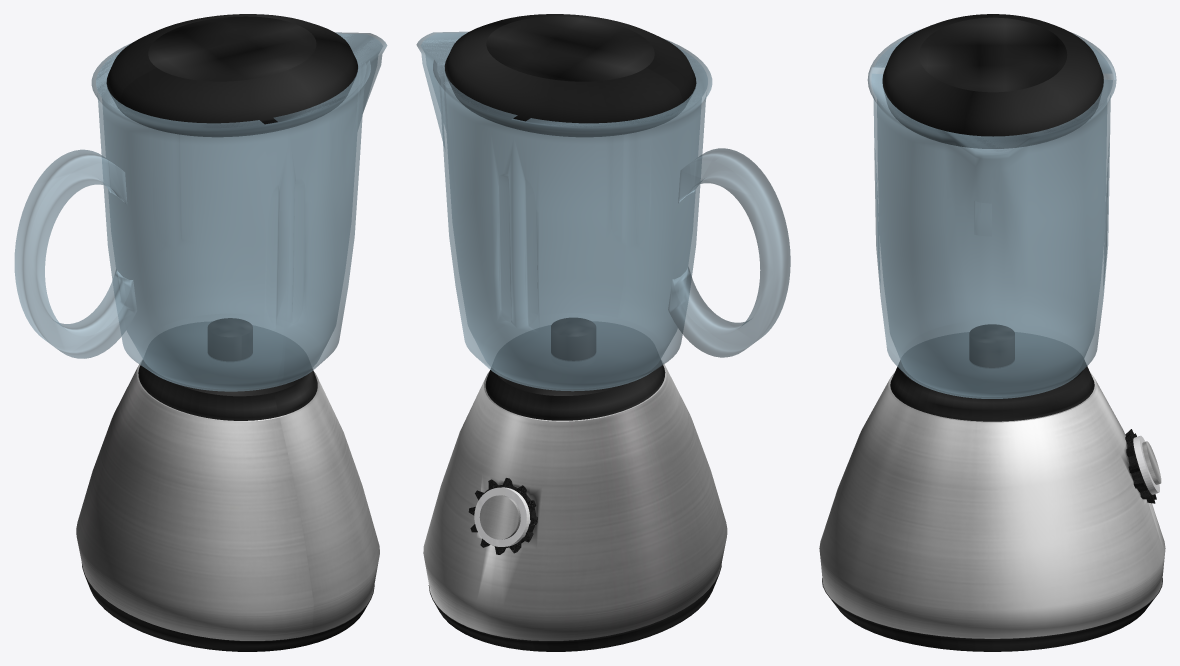
The model's file is blender.fbx.
The picture shows the model from 3 angles, left to right: view 1: azimuth 30°, elevation 25°; view 2: azimuth 150°, elevation 25°; view 3: azimuth 270°, elevation 25°; orthographic projection.
Visible parts, largest first — view 1: Cylinder.005, Cylinder, Cylinder.006, Cylinder.004, Cylinder.001, Cylinder.002, Cylinder.003; view 2: Cylinder.005, Cylinder, Cylinder.006, Cylinder.004, Cylinder.001, Cylinder.002, Cylinder.003, Cylinder.009, Cylinder.008, Cylinder.007; view 3: Cylinder, Cylinder.005, Cylinder.006, Cylinder.001, Cylinder.002, Cylinder.003, Cylinder.007, Cylinder.008.
Boxes of the visible parts, box(x1,y1,x2,y2) form: Cylinder.005: box(91, 32, 387, 391); Cylinder: box(76, 361, 379, 640); Cylinder.006: box(106, 14, 357, 136); Cylinder.004: box(14, 149, 136, 358); Cylinder.001: box(138, 360, 317, 420); Cylinder.002: box(82, 564, 374, 651); Cylinder.003: box(208, 318, 252, 361); Cylinder.005: box(416, 31, 712, 391); Cylinder: box(423, 360, 727, 640); Cylinder.006: box(444, 14, 696, 136); Cylinder.004: box(668, 148, 790, 357); Cylinder.001: box(485, 359, 665, 420); Cylinder.002: box(428, 564, 721, 651); Cylinder.003: box(551, 318, 595, 361); Cylinder.009: box(479, 495, 520, 539); Cylinder.008: box(474, 487, 530, 546); Cylinder.007: box(468, 478, 537, 554); Cylinder: box(819, 373, 1165, 638); Cylinder.005: box(867, 29, 1116, 398); Cylinder.006: box(882, 14, 1103, 148); Cylinder.001: box(890, 360, 1094, 421); Cylinder.002: box(822, 578, 1162, 651); Cylinder.003: box(969, 324, 1014, 368); Cylinder.007: box(1125, 429, 1156, 503); Cylinder.008: box(1133, 435, 1159, 494).
Size of the model in its own units: 494 by 706 by 408.
Materials: 4 (4 with a texture image).
